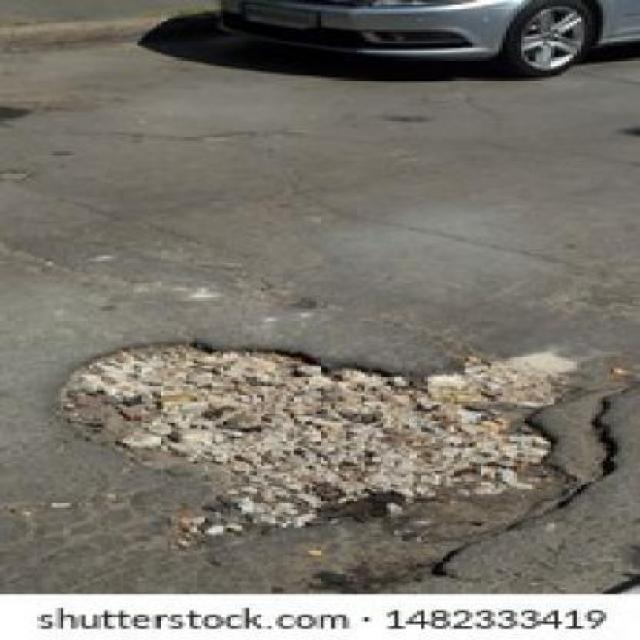Pothole: (56, 338, 581, 551)
